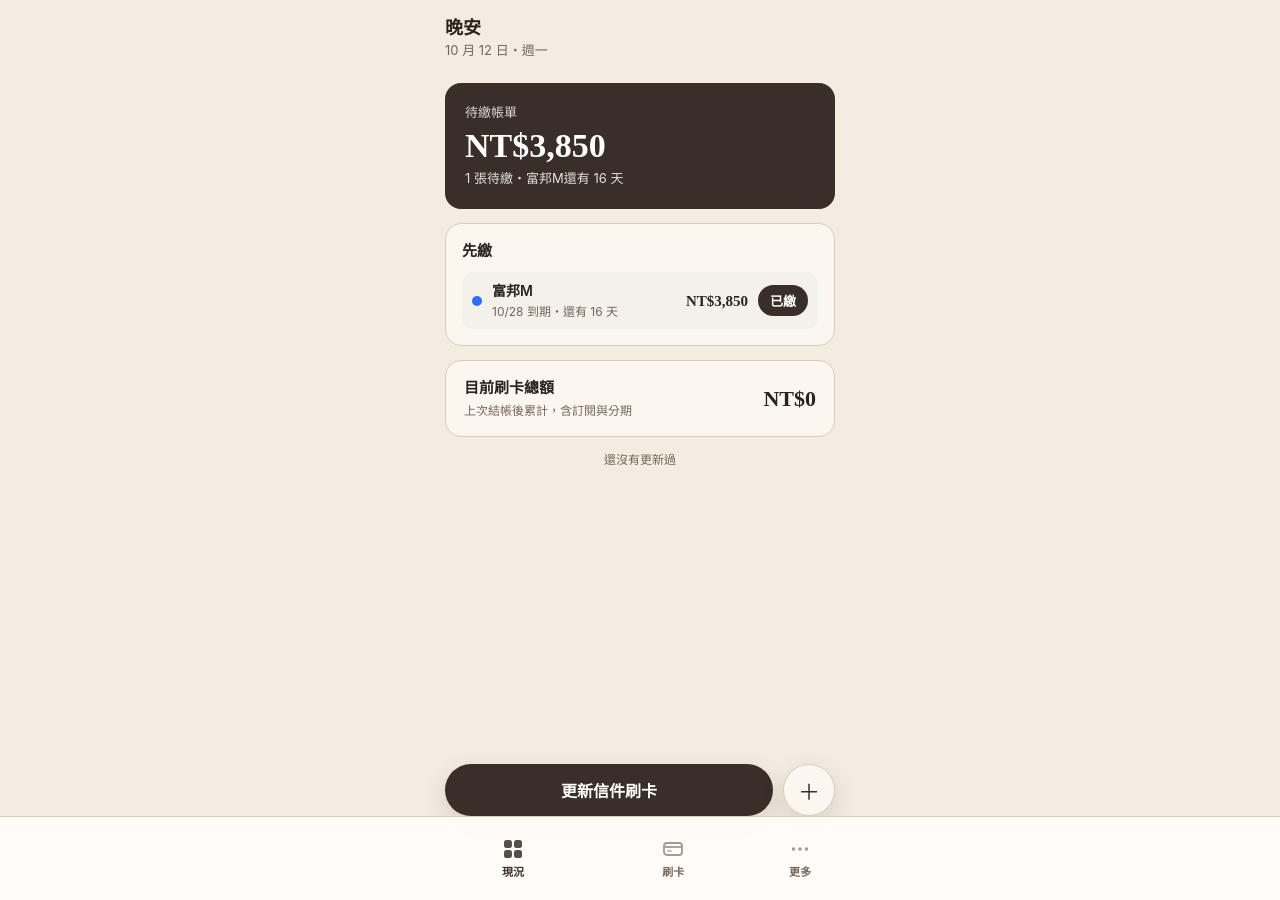
Test case: 富邦M 2026-10-12（對照銀行 App 的 2,596） › 沒記退款時，App 比銀行多出剛好一筆退款
Click the button "刷卡": (673, 858) [593, 826, 753, 890]
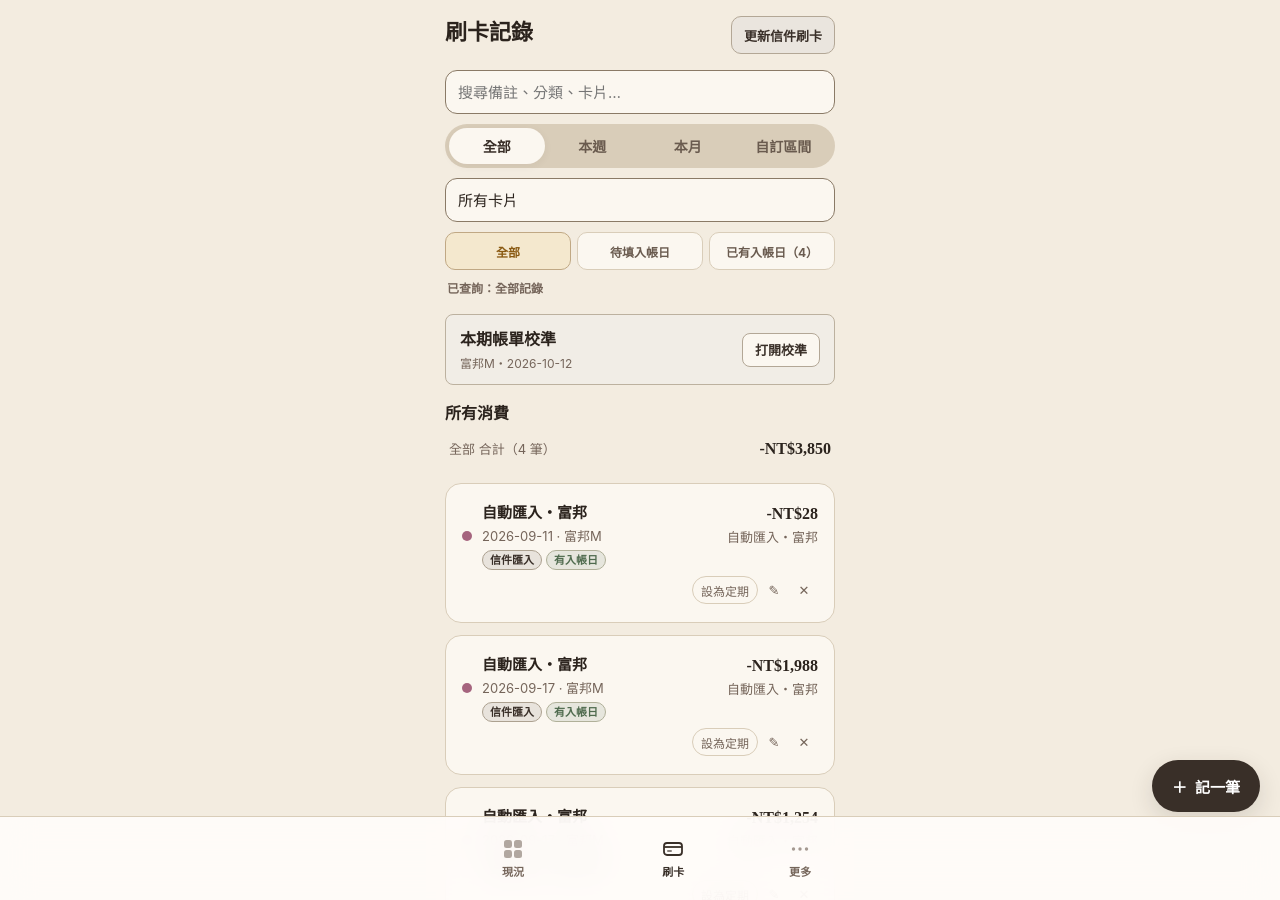
Click the button "打開校準": (781, 350) [742, 333, 820, 367]
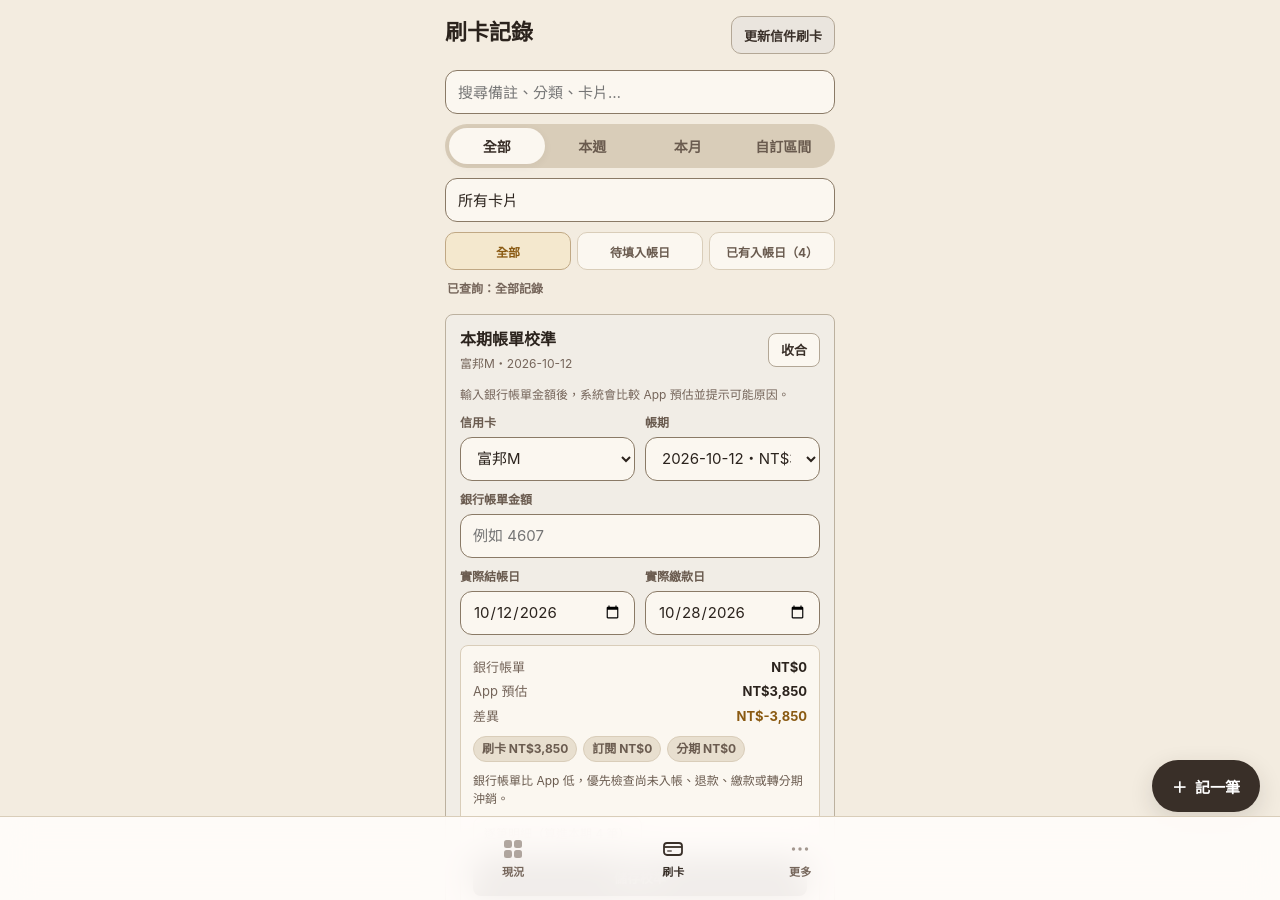
In the number field with placeholder "例如 4607": (640, 536) [460, 514, 820, 558], type "2596"
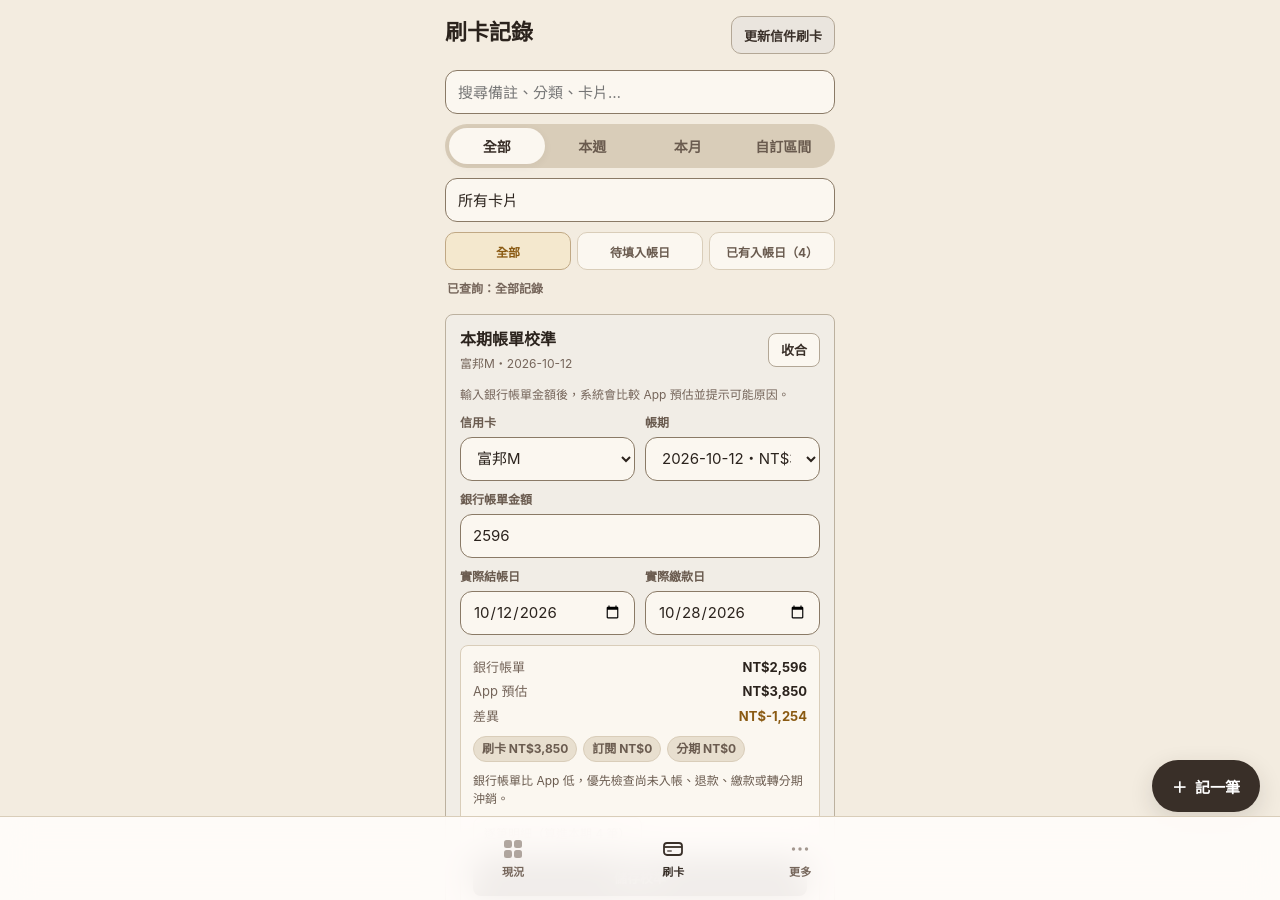
Now the text "NT$3,850" is shown, box [742, 682, 807, 702]
Now the text "NT$-1,254" is shown, box [739, 707, 807, 726]
